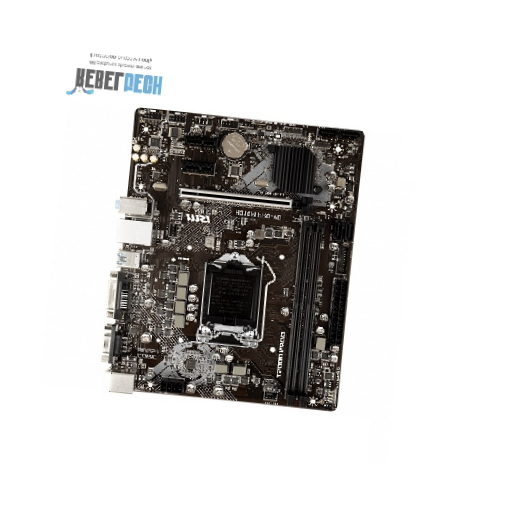CPU: (195, 252, 267, 348)
GPU: (179, 187, 312, 214)
MOTHERBOARD: (99, 111, 365, 409)
RAM: (283, 219, 328, 403)
